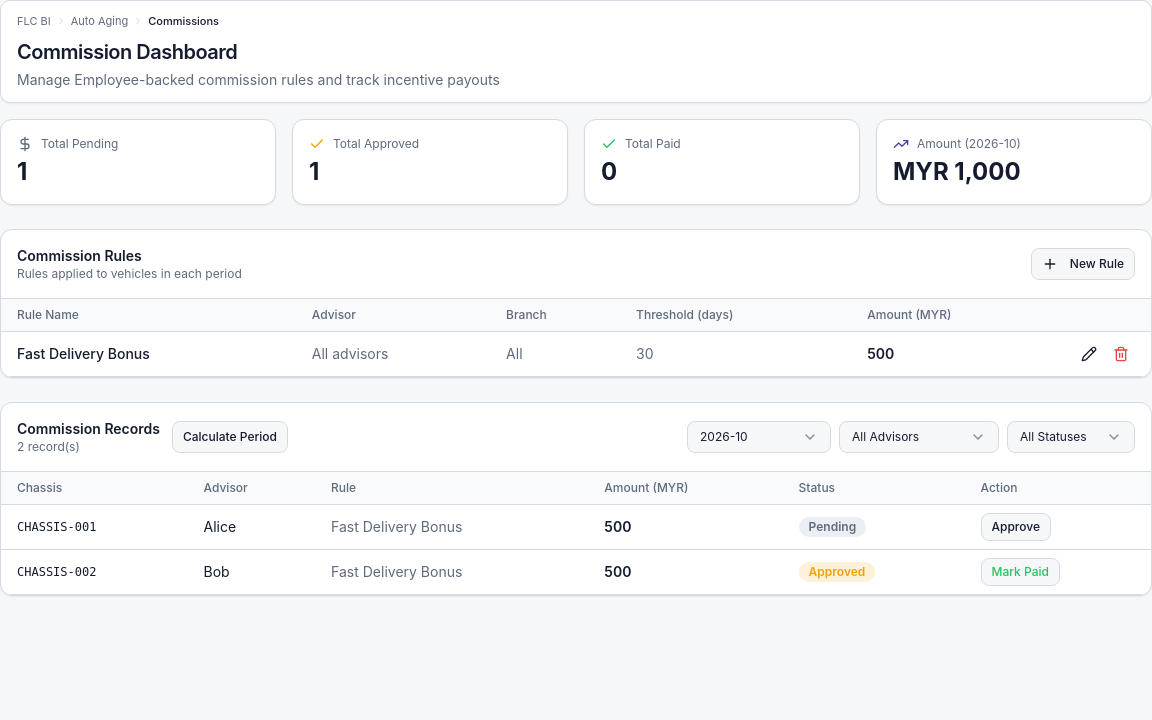
it: CommissionDashboard › marks approved commission records as paid and removes the action button
The image size is (1152, 720).
expect the text "CHASSIS-002" is shown: met, box [1, 549, 188, 594]
Click the button "Mark Paid": (1020, 572) [980, 558, 1060, 586]
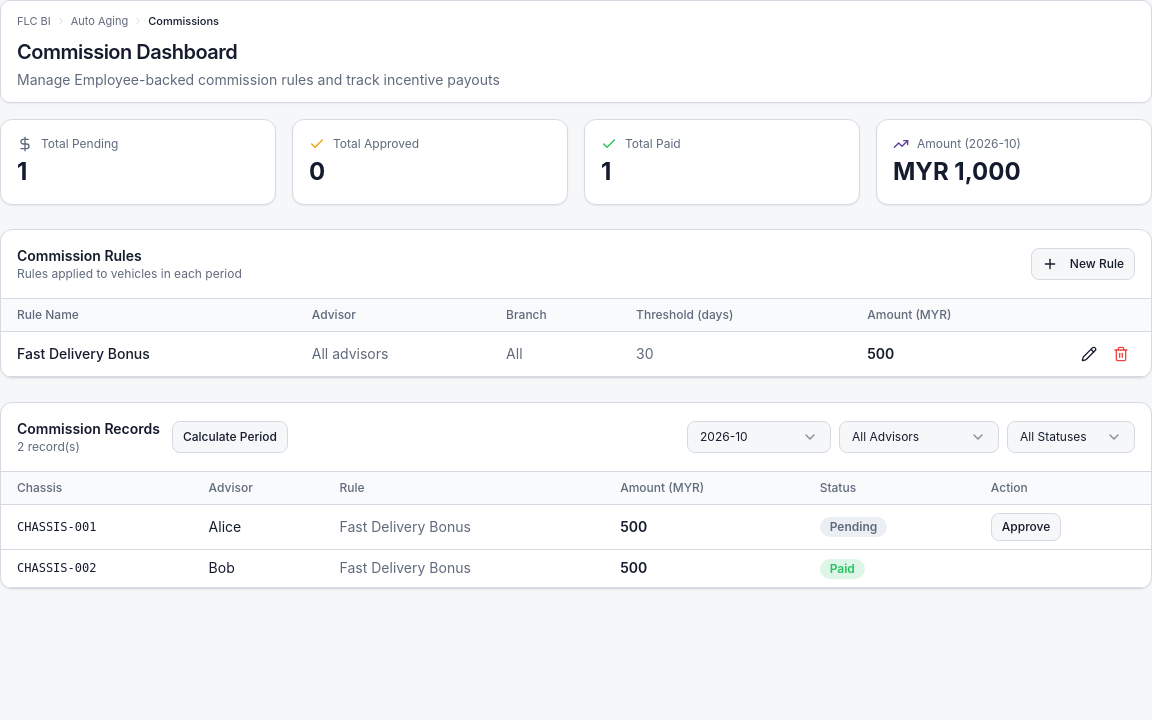
expect the text "paid" is shown: met, box [820, 558, 865, 578]
expect the button "Mark Paid" is gone: met
